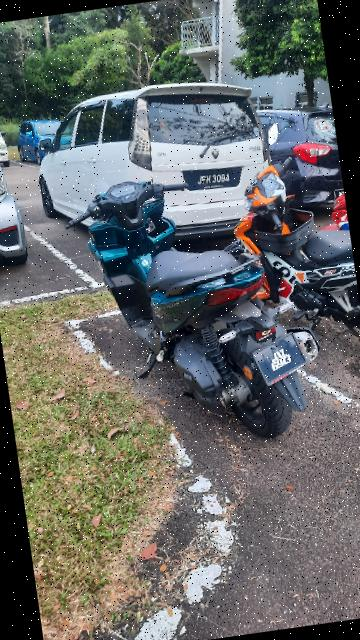License_Plate: (242, 327, 315, 392), (179, 163, 244, 195)
car: (15, 70, 290, 262)
motorcycle: (51, 145, 328, 457), (216, 118, 360, 356)
